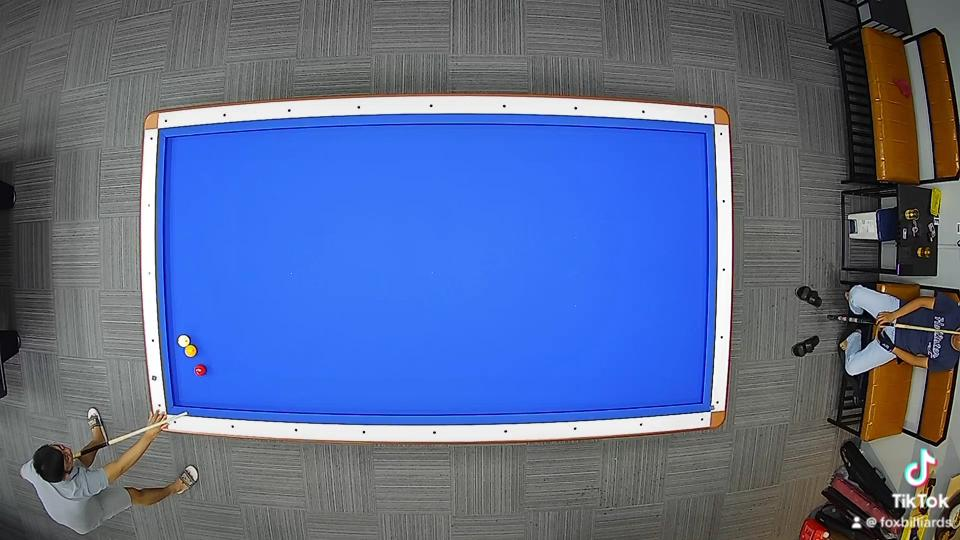Red: (193, 364, 208, 378)
White: (176, 334, 190, 348)
Yellow: (184, 344, 197, 358)
